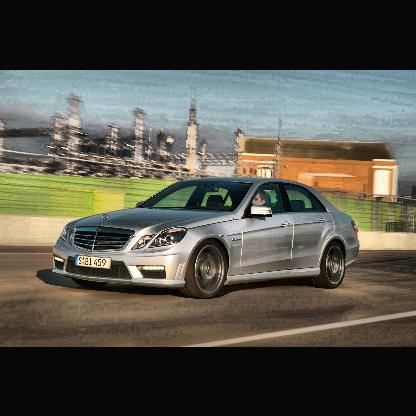Mercedes-Benz E-Class Sedan 2012: (53, 178, 362, 300)
